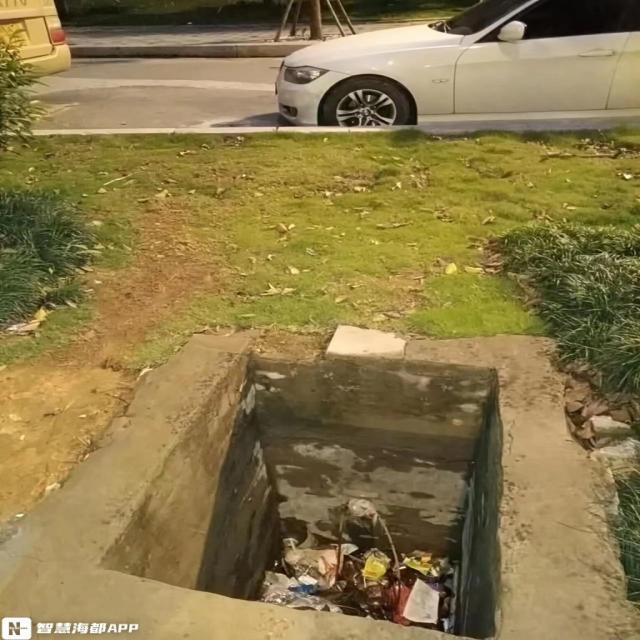manhole: (0, 328, 640, 640), (212, 572, 570, 640)
